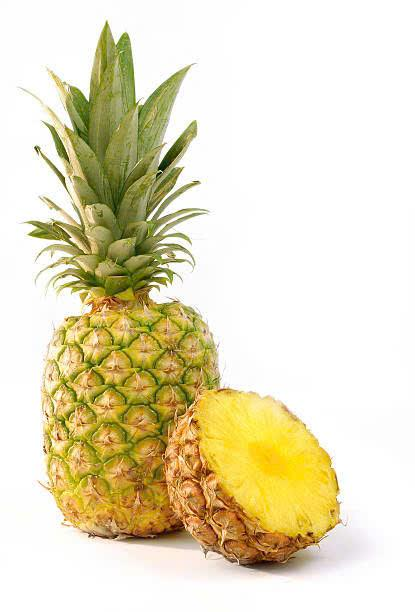pineapple: (49, 53, 209, 531), (147, 389, 380, 574)
